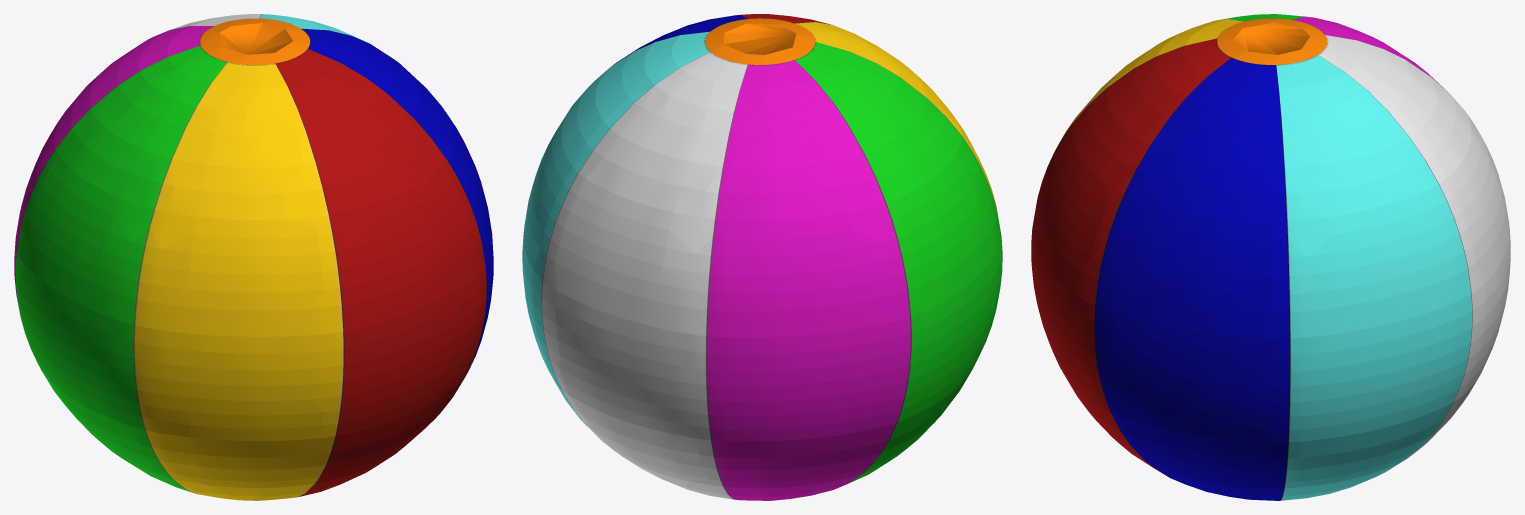
The model's file is Ball.FBX.
The picture shows the model from 3 angles, left to right: view 1: azimuth 30°, elevation 25°; view 2: azimuth 150°, elevation 25°; view 3: azimuth 270°, elevation 25°; orthographic projection.
Parts seen in each view (by area): view 1: Beach_Ball; view 2: Beach_Ball; view 3: Beach_Ball.
Boxes of the visible parts, x1=… form: Beach_Ball: x1=14, y1=14, x2=493, y2=500; Beach_Ball: x1=522, y1=14, x2=1002, y2=500; Beach_Ball: x1=1031, y1=14, x2=1510, y2=500.
Size of the model in its own units: 30.45 by 30.43 by 30.45.
Materials: 1 (1 with a texture image).
